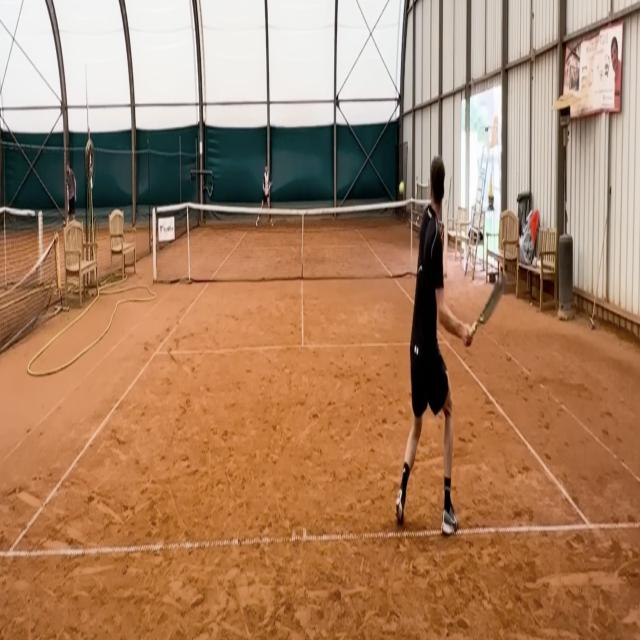ball: (398, 180, 405, 198)
